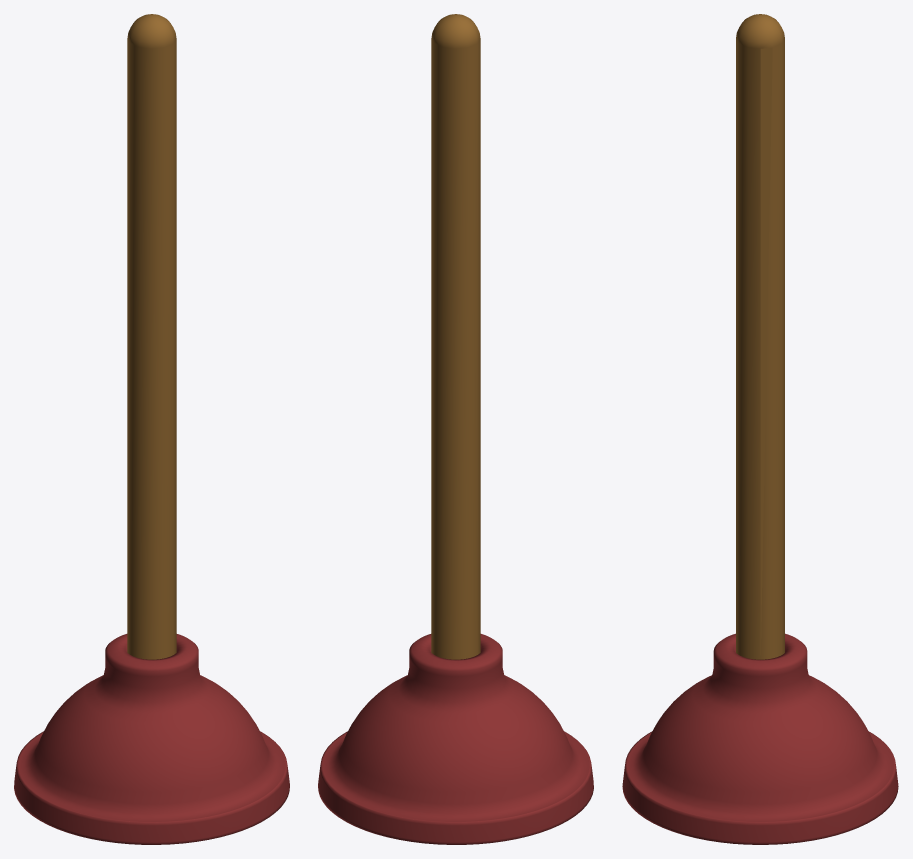
File: 9842_Plunger.fbx
The picture shows the model from 3 angles, left to right: view 1: azimuth 30°, elevation 25°; view 2: azimuth 150°, elevation 25°; view 3: azimuth 270°, elevation 25°; orthographic projection.
Parts seen in each view (by area): view 1: Sphere02, Capsule01; view 2: Sphere02, Capsule01; view 3: Sphere02, Capsule01.
Part boxes in pixels (x1,y1,x2,y2): Sphere02: [14, 634, 289, 844]; Capsule01: [127, 14, 176, 659]; Sphere02: [318, 634, 593, 844]; Capsule01: [431, 14, 480, 659]; Sphere02: [622, 633, 898, 844]; Capsule01: [736, 14, 784, 659].
Size of the model in its own units: 285 by 879 by 285.
